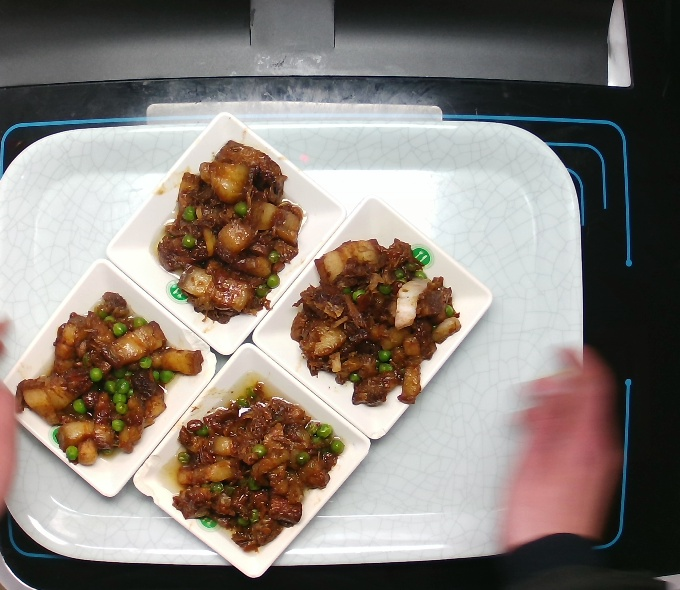wcq-JiangRou: (18, 286, 204, 470), (291, 231, 466, 403), (163, 372, 338, 544), (156, 142, 310, 328)
